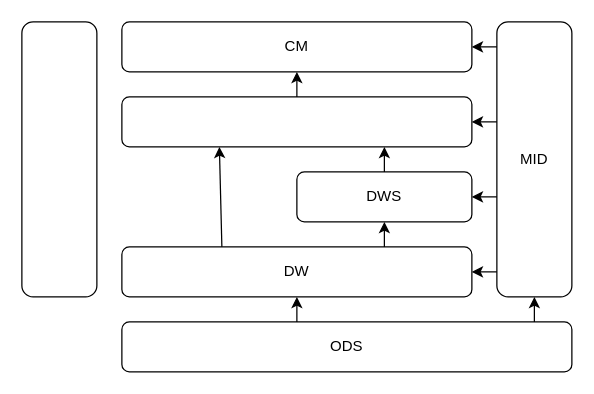
The diagram is 594 pixels wide and 394 high, and some of its shapes have lost their labels. The box of each missing label's shape, as (x1, y1, x2, y2) in pixels:
DM: (121, 96, 472, 147)
TMP: (21, 21, 97, 297)
